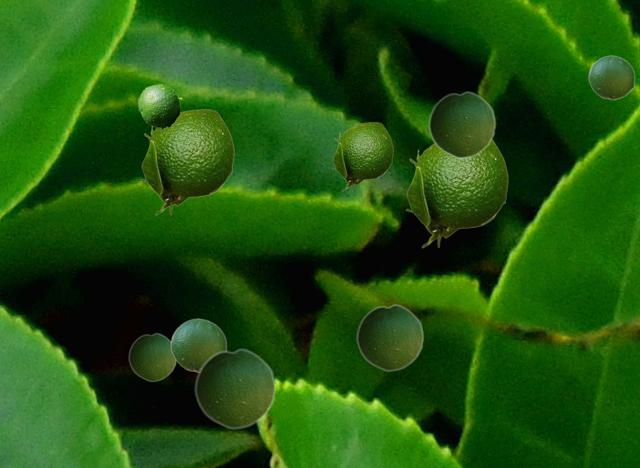dalandan: (405, 139, 507, 247), (140, 109, 233, 214), (194, 347, 275, 429), (356, 303, 423, 371), (428, 90, 495, 158), (332, 122, 392, 190), (170, 318, 226, 372), (128, 332, 176, 381), (588, 55, 634, 99), (138, 84, 181, 128)
